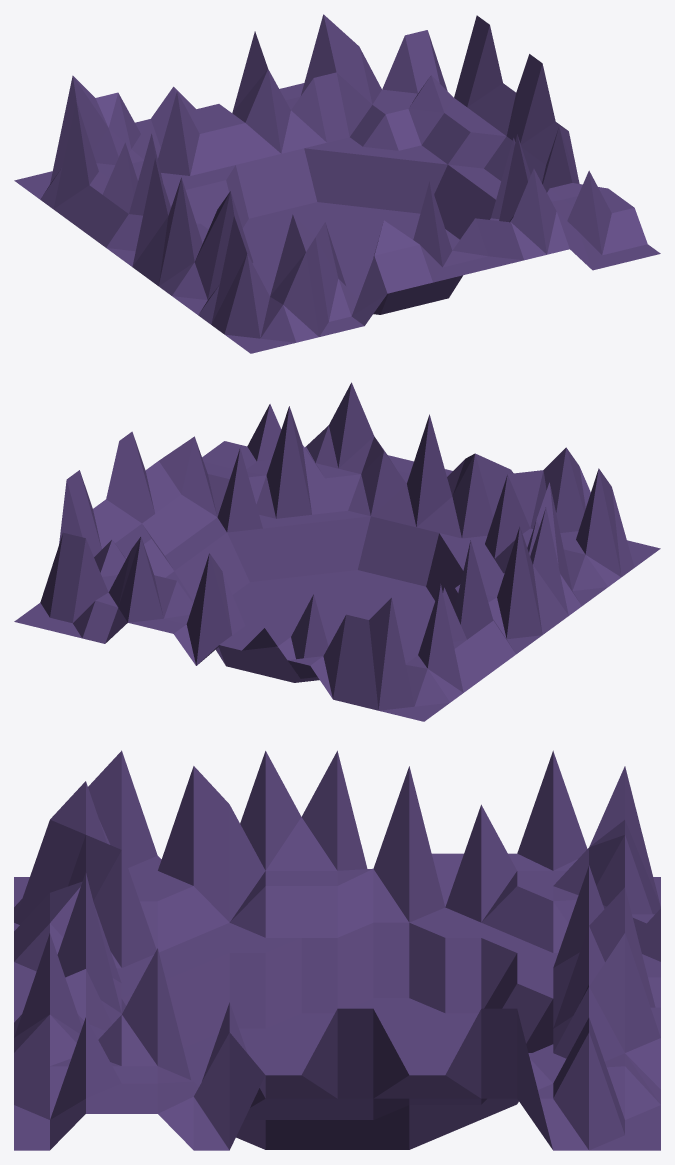
File: pointymountains.dae
3 renders of one model, top to bottom at view 1: azimuth 30°, elevation 25°; view 2: azimuth 150°, elevation 25°; view 3: azimuth 270°, elevation 25°, orthographic. The views are drawn at different scales.
Parts seen in each view (by area): view 1: Grid; view 2: Grid; view 3: Grid.
Boxes of the visible parts, x1=… form: Grid: x1=14, y1=14, x2=660, y2=353; Grid: x1=14, y1=382, x2=660, y2=721; Grid: x1=14, y1=750, x2=660, y2=1150.
Bounding box in the file's own units: 16.23 × 16.23 × 5.59.
